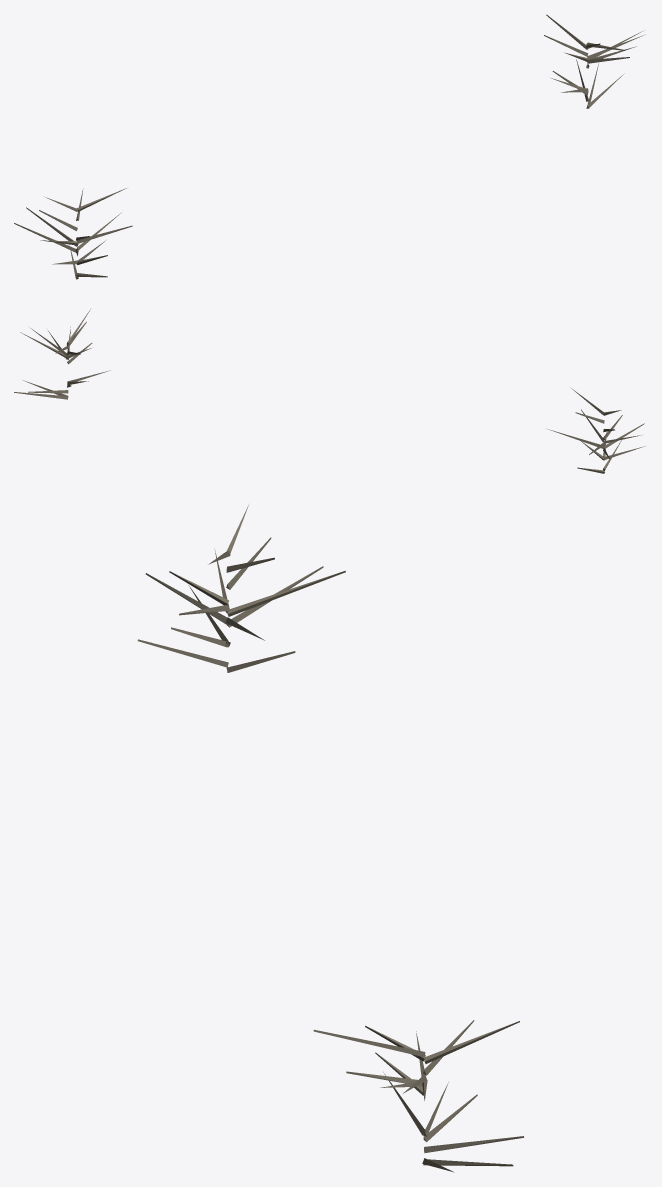
Rendered from xiyuan-vegetation-17-medium.glb.
The picture shows the model from 3 angles, top to bottom: view 1: azimuth 30°, elevation 25°; view 2: azimuth 150°, elevation 25°; view 3: azimuth 270°, elevation 25°; orthographic projection. The views are drawn at different scales.
Visible parts, largest first — view 1: vegetation broadleaf branches; view 2: vegetation broadleaf branches; view 3: vegetation broadleaf branches.
Boxes of the visible parts, left/top/right/bottom form: vegetation broadleaf branches: left=14, top=14, right=645, bottom=279; vegetation broadleaf branches: left=14, top=309, right=645, bottom=473; vegetation broadleaf branches: left=137, top=505, right=524, bottom=1172.
Size of the model in its own units: 33.92 by 4.64 by 9.9.
